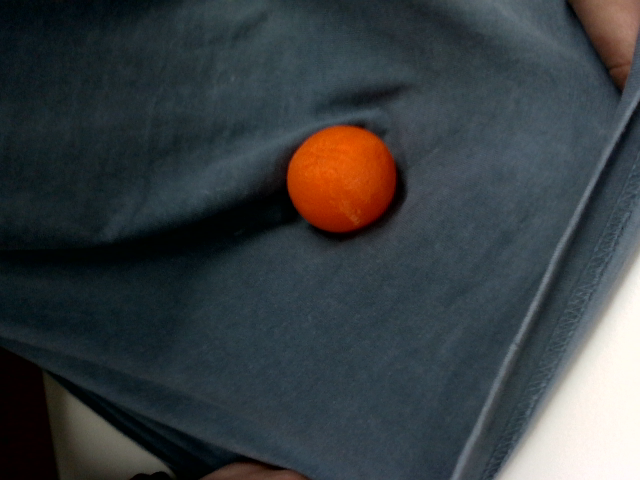orange: (267, 104, 416, 252)
